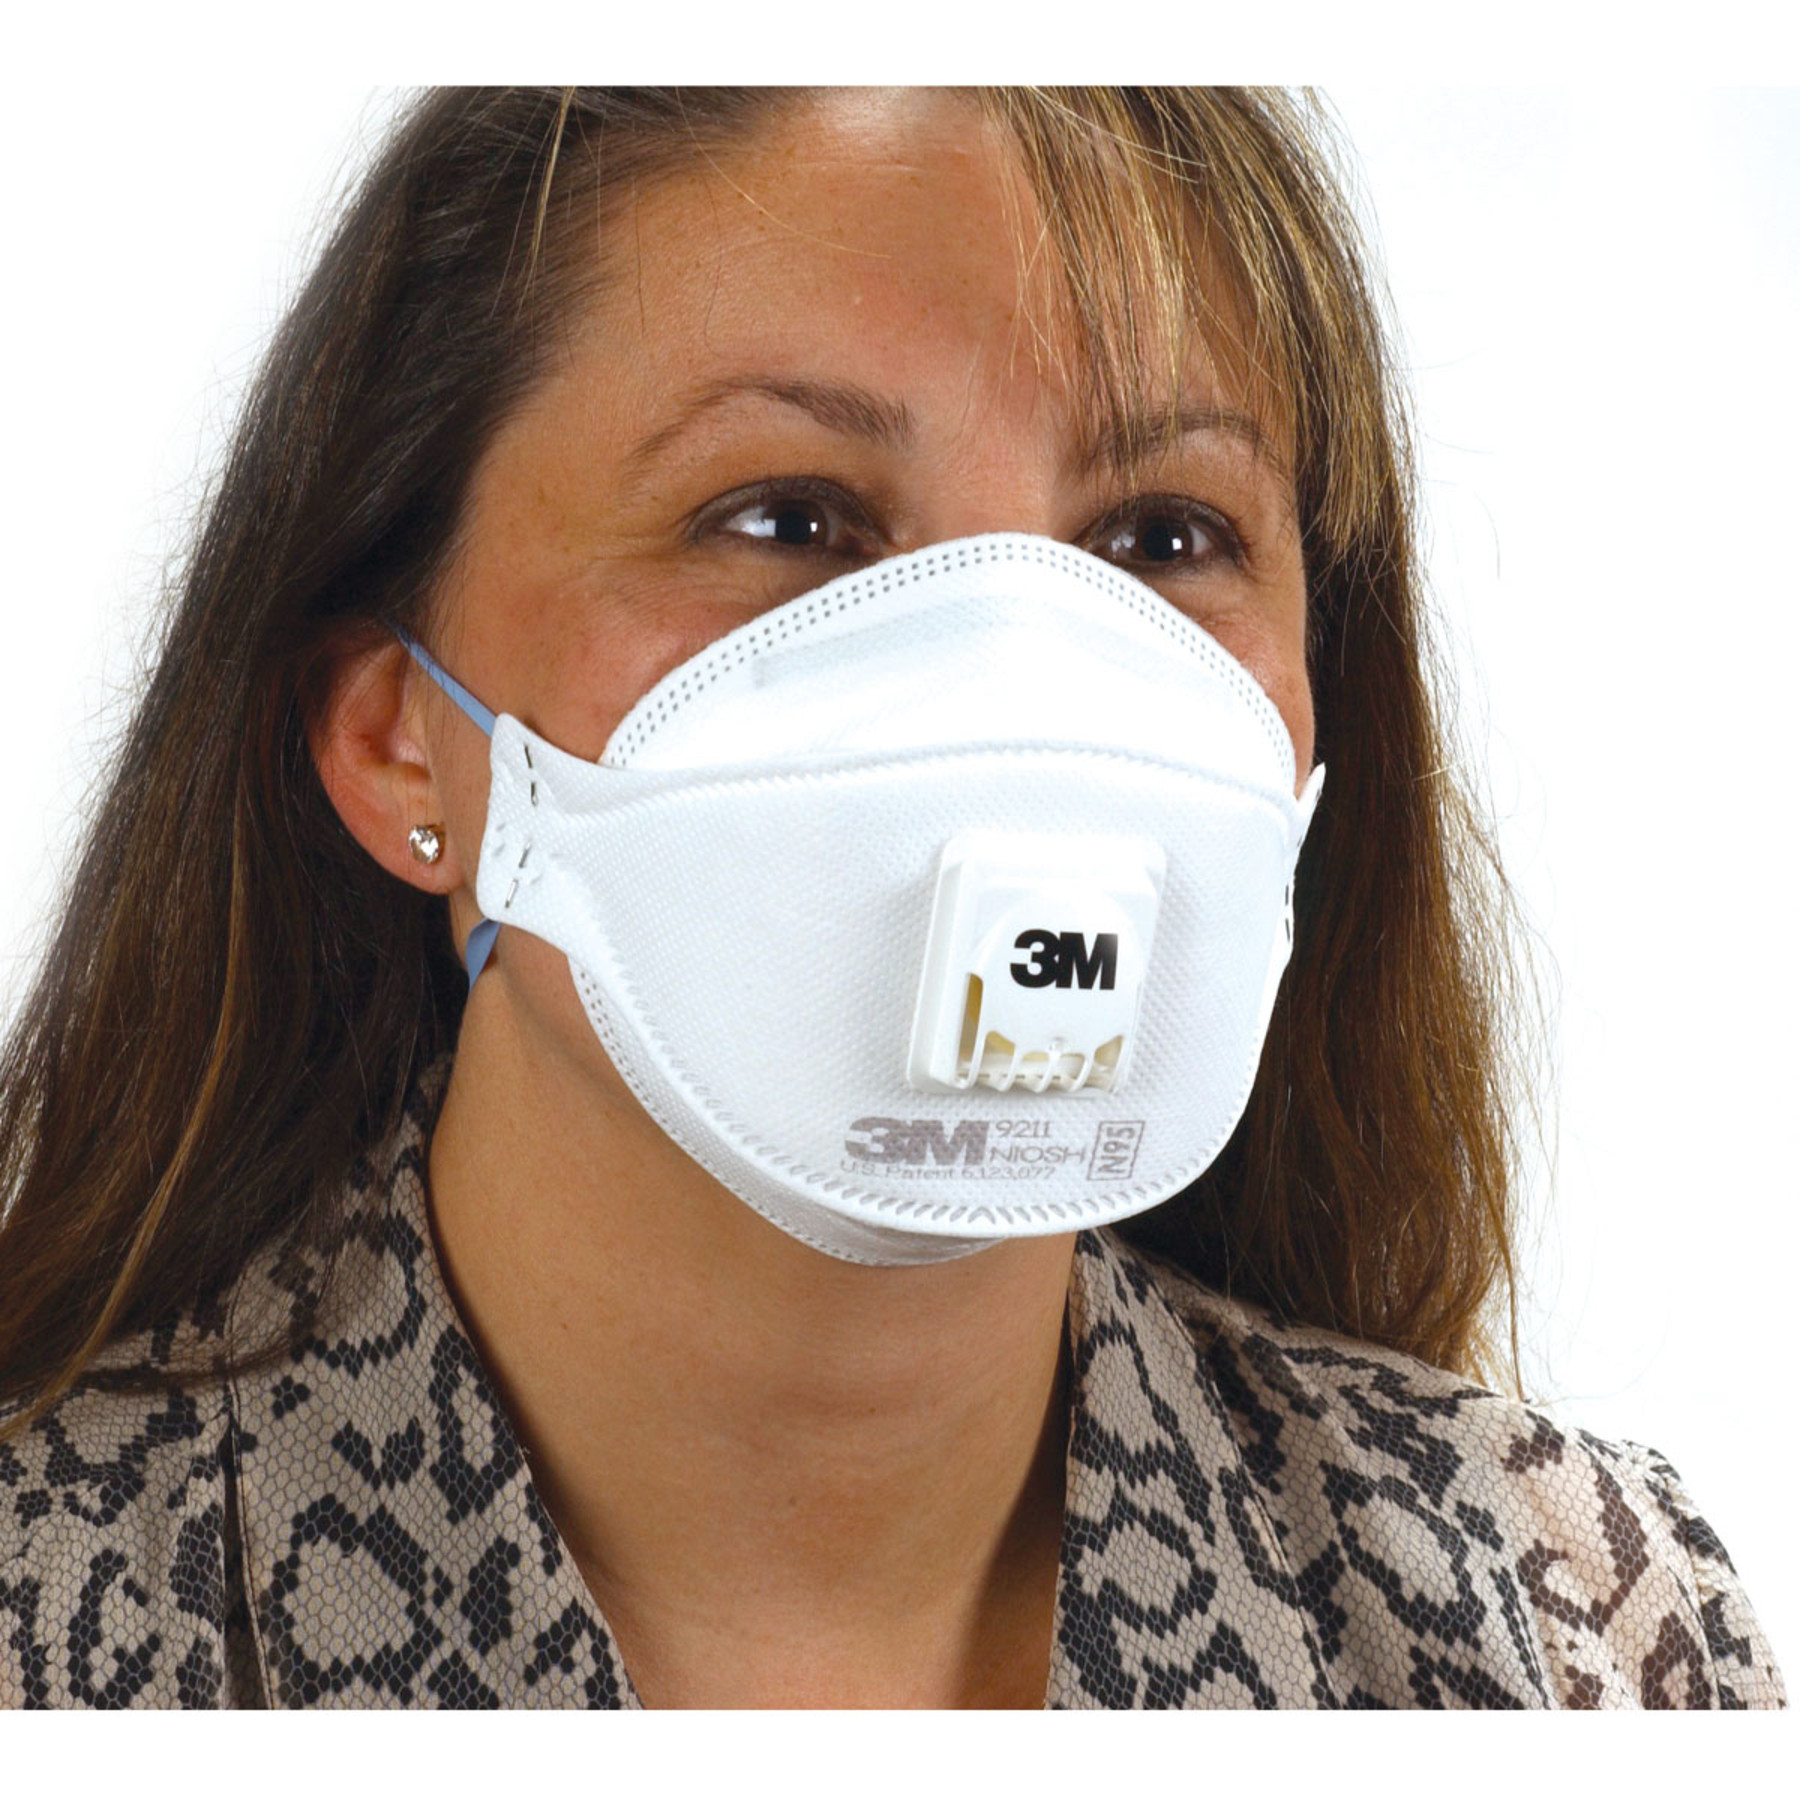n95: (454, 528, 1338, 1287)
